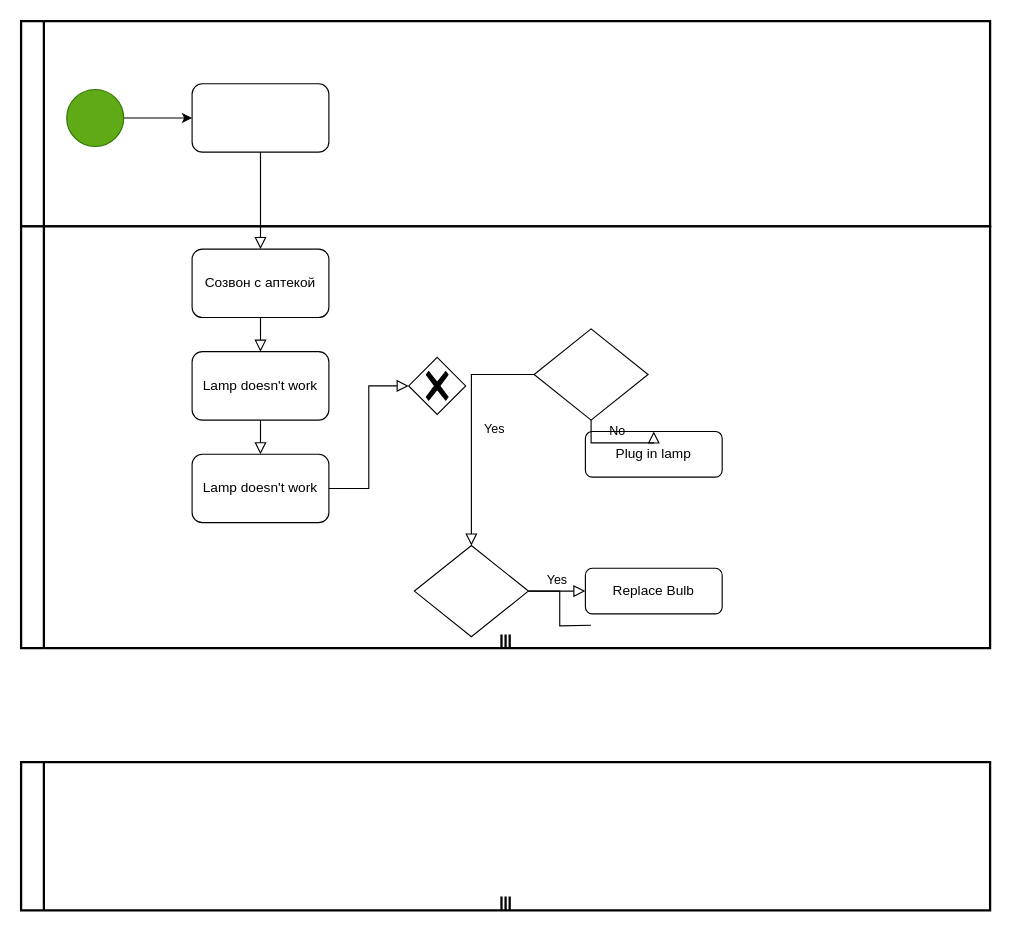
Image size: 1010x930. Some labels were removed from this diagram. The shapes that lost their labels are listed below. From the top down, each one's centre as x and y in pixels, then its label:
the point at 260,117: Сформировать заявку в ОТРС
the point at 590,374: Lamp plugged in?
the point at 470,590: Bulb burned out?
